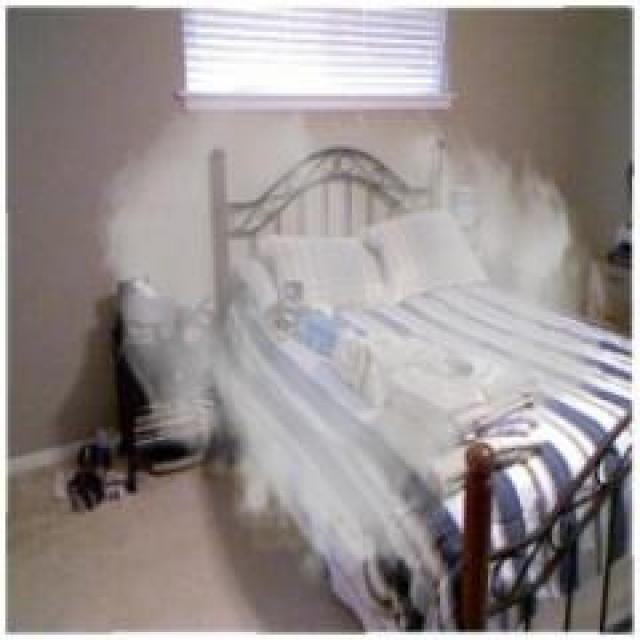smoke: (92, 80, 612, 600)
